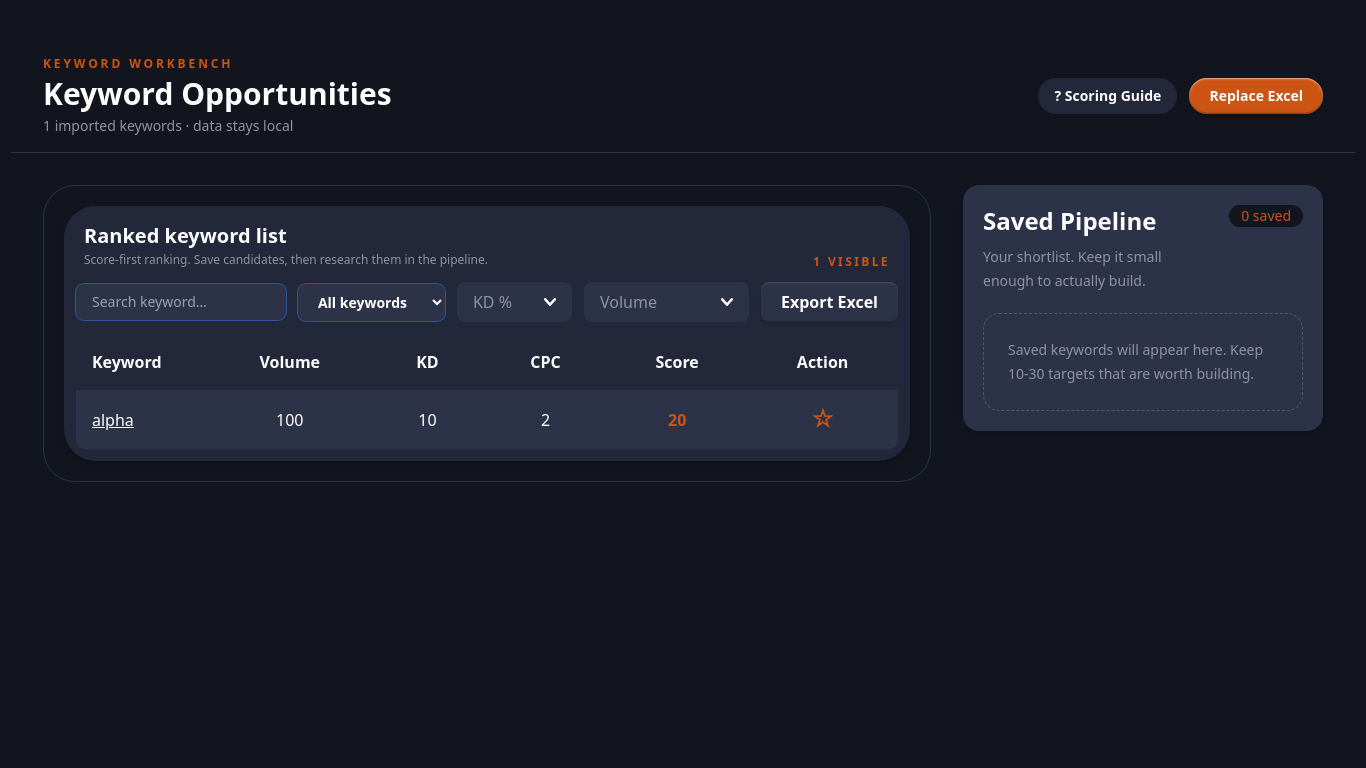
Test case: pages/index › opens the scoring guide as a dialog instead of expanding inline content
Click the button with test id "scoring-guide-trigger": coordinates (1108, 96) [1038,78,1177,114]
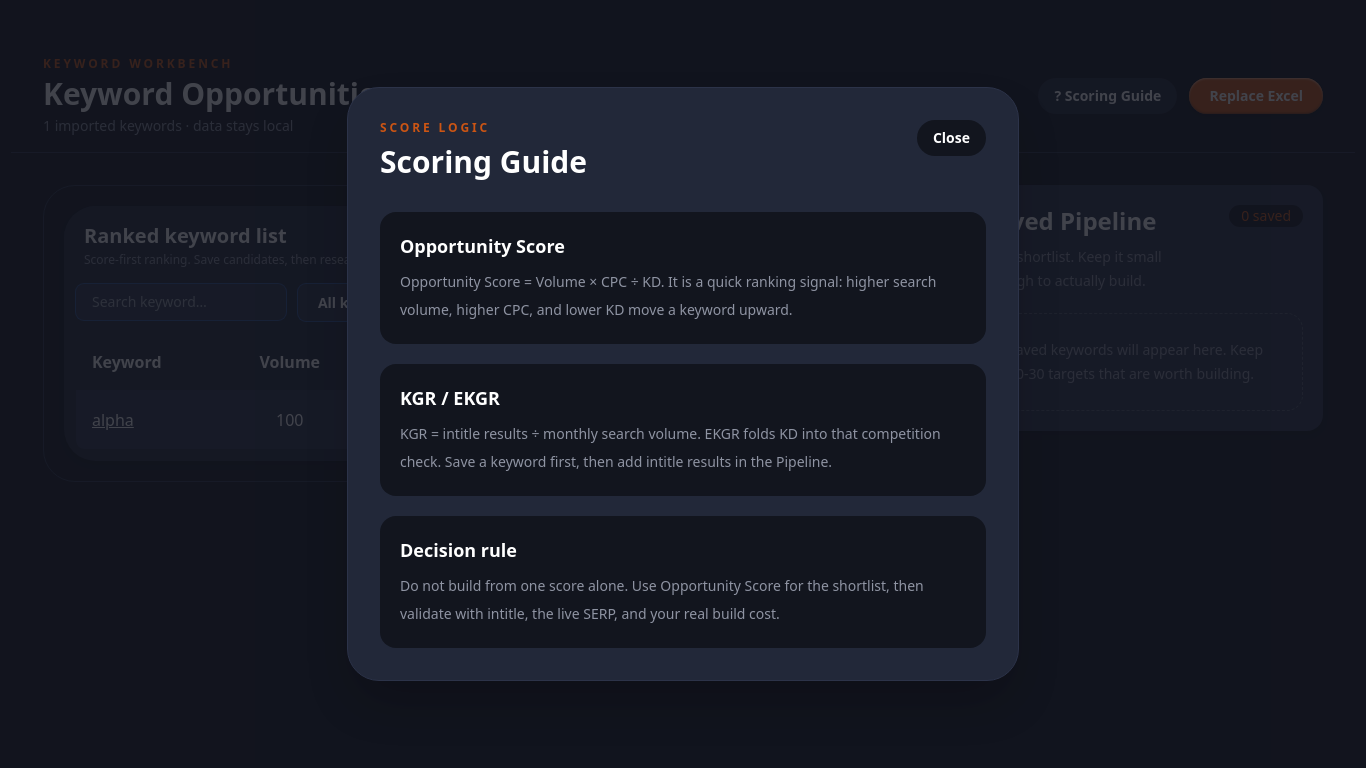
Expected: the dialog is shown, [347,87,1019,681]
Expected: the dialog shows "Opportunity Score", [400,234,565,258]
Click the button with test id "scoring-guide-close": coordinates (951, 138) [917,120,986,156]
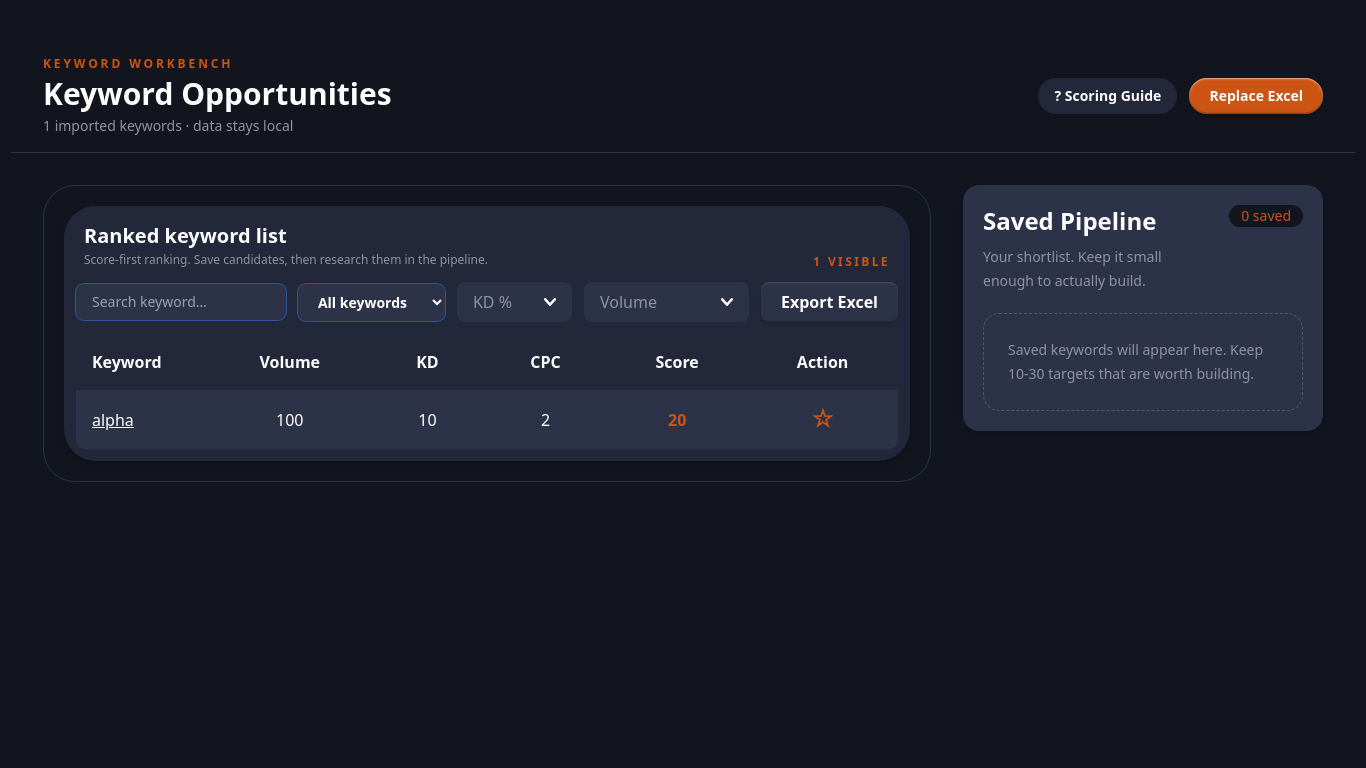
Expected: the dialog is gone
